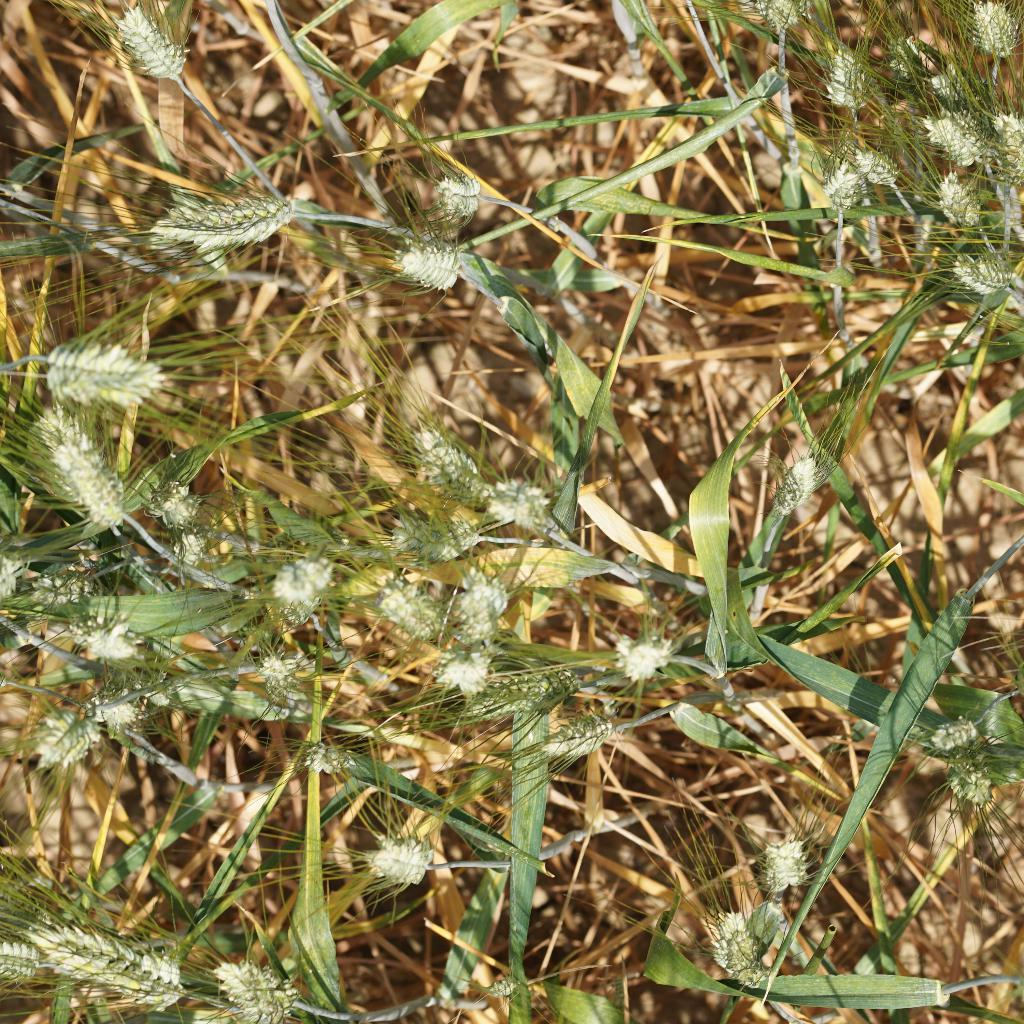0-0: (38, 916, 190, 1011), (24, 401, 129, 534), (134, 172, 290, 251), (438, 661, 593, 731), (378, 494, 490, 572), (44, 336, 165, 408), (104, 0, 194, 85), (216, 949, 309, 1023), (369, 232, 468, 299), (916, 104, 1005, 178), (694, 899, 772, 982), (756, 447, 847, 518), (355, 818, 438, 892), (90, 684, 187, 747), (380, 408, 468, 477), (261, 524, 336, 604), (740, 813, 817, 889), (414, 623, 496, 694), (17, 698, 98, 768), (474, 463, 553, 533), (438, 555, 509, 630), (535, 703, 616, 766), (825, 44, 885, 127), (947, 245, 1024, 309), (71, 615, 163, 668), (929, 171, 998, 238), (366, 572, 437, 635), (918, 61, 992, 119), (422, 164, 497, 221), (242, 637, 306, 702), (146, 474, 208, 539), (960, 0, 1024, 62), (848, 134, 908, 199), (23, 555, 93, 609), (288, 731, 359, 781), (817, 153, 869, 220), (875, 26, 924, 96), (921, 707, 982, 762), (609, 626, 673, 677), (744, 0, 818, 43), (161, 523, 215, 573), (938, 758, 993, 806), (0, 929, 44, 989), (994, 107, 1024, 180), (275, 595, 319, 626), (479, 972, 520, 1002)
